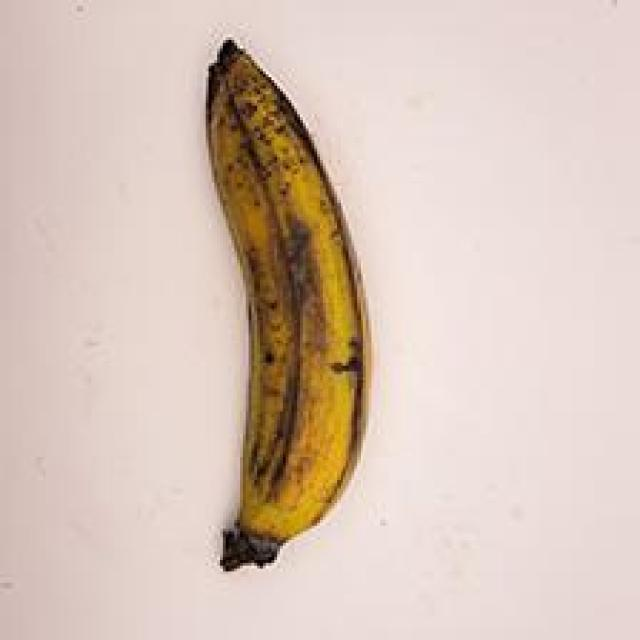Overripe: (132, 20, 410, 591)
